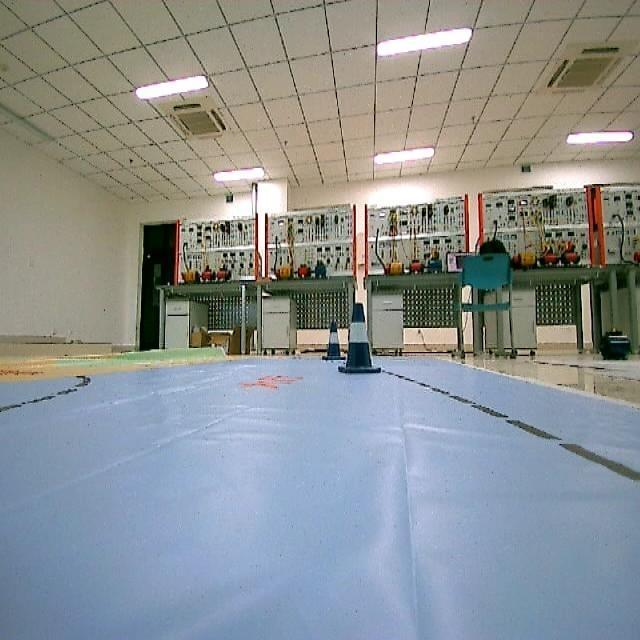obstacle: (337, 302, 391, 378), (322, 300, 346, 366)
